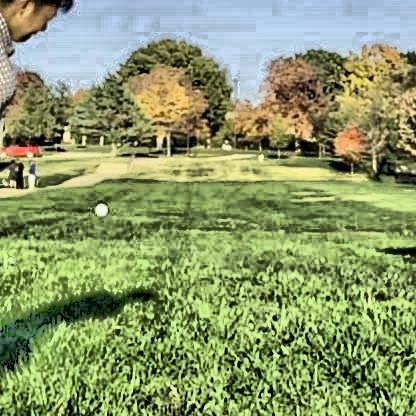golfball: (91, 200, 106, 214)
